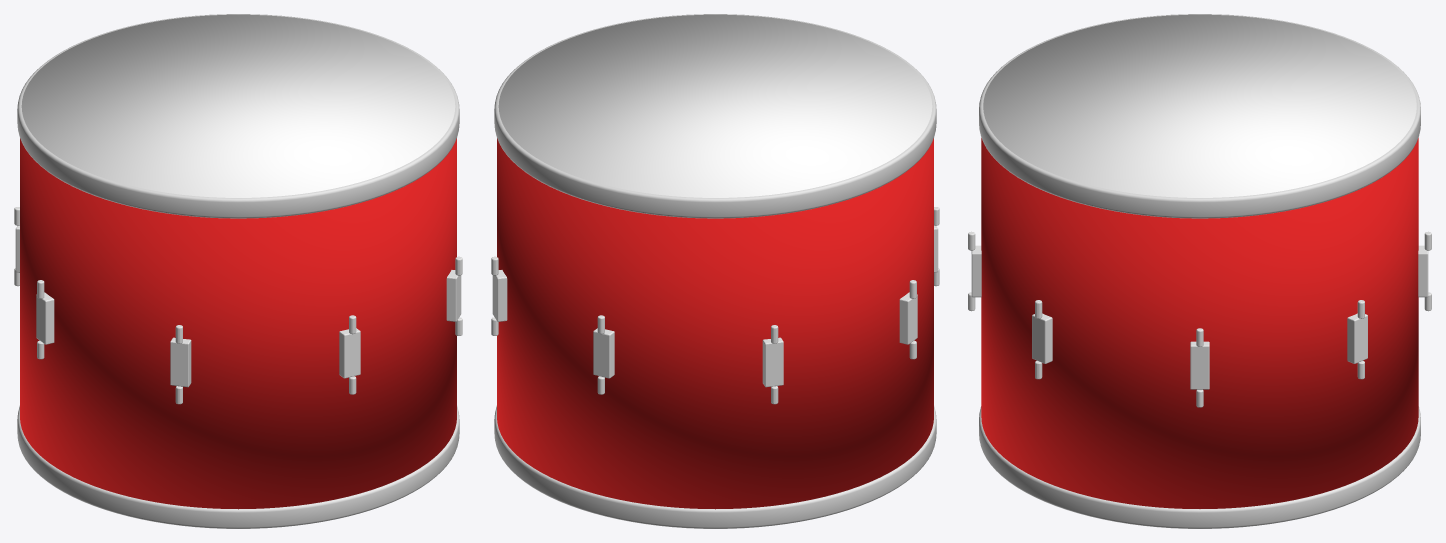
File: ToyDrum.glb
3 views of the same model, side by side, from view 1: azimuth 30°, elevation 25°; view 2: azimuth 150°, elevation 25°; view 3: azimuth 270°, elevation 25° (orthographic).
Parts seen in each view (by area): view 1: Drum_Shell, Drum_HeadTop, Drum_RimTop, Drum_RimBottom, Drum_Lugs; view 2: Drum_Shell, Drum_HeadTop, Drum_RimTop, Drum_RimBottom, Drum_Lugs; view 3: Drum_Shell, Drum_HeadTop, Drum_RimTop, Drum_RimBottom, Drum_Lugs.
Part boxes in pixels (x1,y1,x2,y2): Drum_Shell: (20, 138, 456, 509); Drum_HeadTop: (21, 14, 455, 197); Drum_RimTop: (17, 14, 459, 218); Drum_RimBottom: (17, 406, 459, 528); Drum_Lugs: (14, 207, 462, 404); Drum_Shell: (497, 138, 933, 509); Drum_HeadTop: (498, 14, 932, 197); Drum_RimTop: (494, 14, 936, 218); Drum_RimBottom: (494, 406, 936, 528); Drum_Lugs: (491, 207, 939, 404); Drum_Shell: (981, 138, 1418, 508); Drum_HeadTop: (983, 14, 1416, 197); Drum_RimTop: (979, 14, 1420, 218); Drum_RimBottom: (979, 406, 1420, 528); Drum_Lugs: (968, 231, 1431, 407).
Size of the model in its own units: 3.82 by 3 by 3.82.
